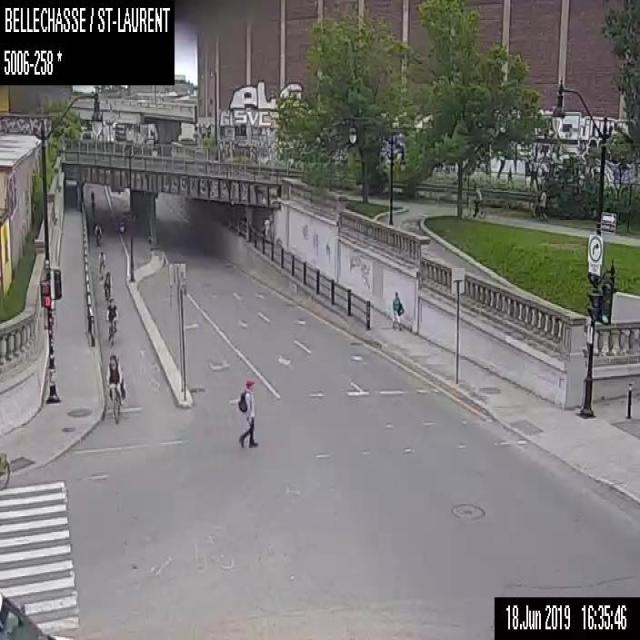cyclist: (104, 353, 126, 424), (105, 297, 118, 346), (466, 184, 484, 217), (103, 271, 111, 303), (98, 251, 106, 278), (94, 220, 102, 245)
pedestrian: (236, 379, 258, 448), (391, 289, 403, 331), (534, 188, 547, 224), (261, 217, 269, 236)
vehicle: (0, 592, 73, 639), (0, 450, 9, 490), (106, 133, 113, 140)
